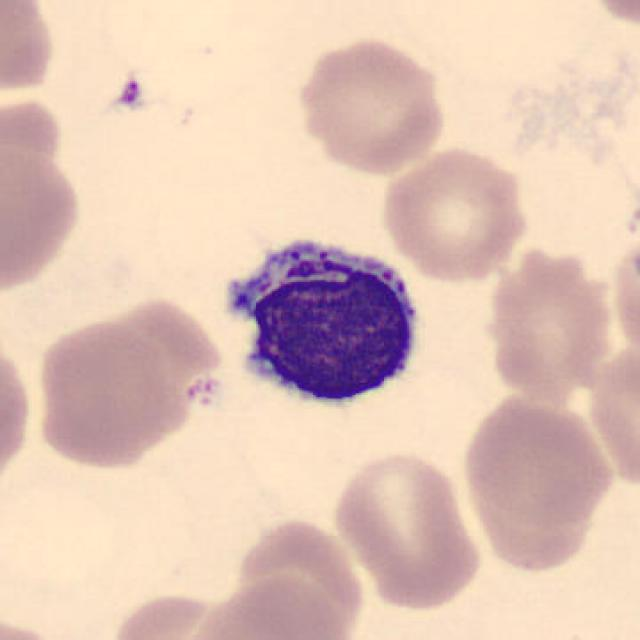Lymphocyte: (214, 223, 431, 422)
Platelets: (178, 375, 226, 417), (112, 74, 148, 115)
RBC: (329, 446, 485, 614), (30, 314, 192, 471), (478, 240, 619, 405), (292, 34, 452, 176), (457, 391, 617, 531), (377, 143, 531, 284), (81, 295, 229, 441), (229, 513, 368, 638), (0, 132, 85, 296), (183, 571, 352, 640), (103, 587, 249, 640), (0, 0, 58, 100), (0, 330, 34, 497), (0, 610, 82, 640), (579, 0, 640, 31)
